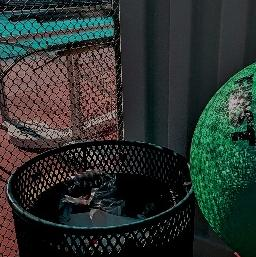algae: (185, 44, 256, 257)
